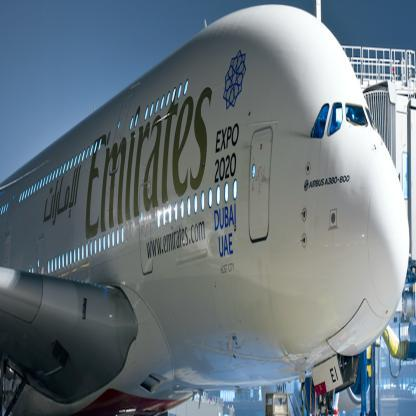CIV_Plane: (2, 0, 410, 413)
